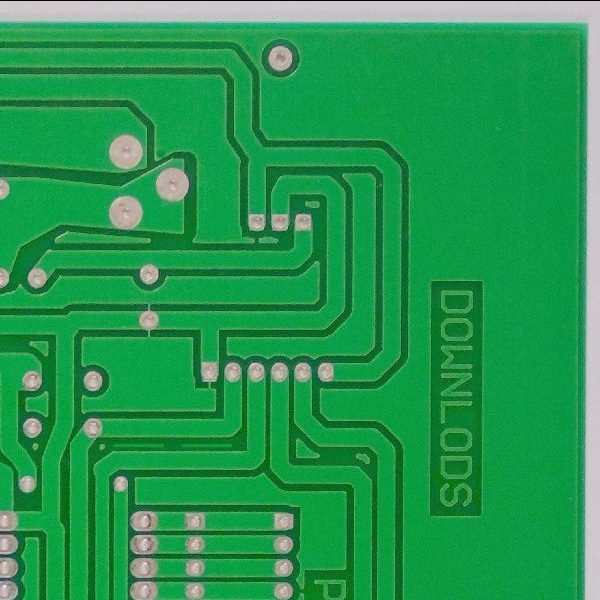spurious_copper: (177, 434, 239, 455), (110, 433, 167, 454)
